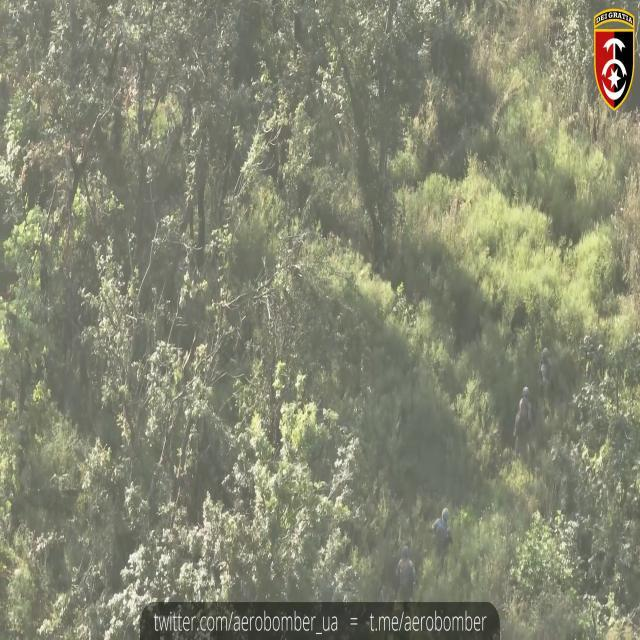MIL_Pax: (431, 507, 452, 570), (514, 387, 532, 460), (396, 547, 416, 602), (539, 347, 551, 387)
